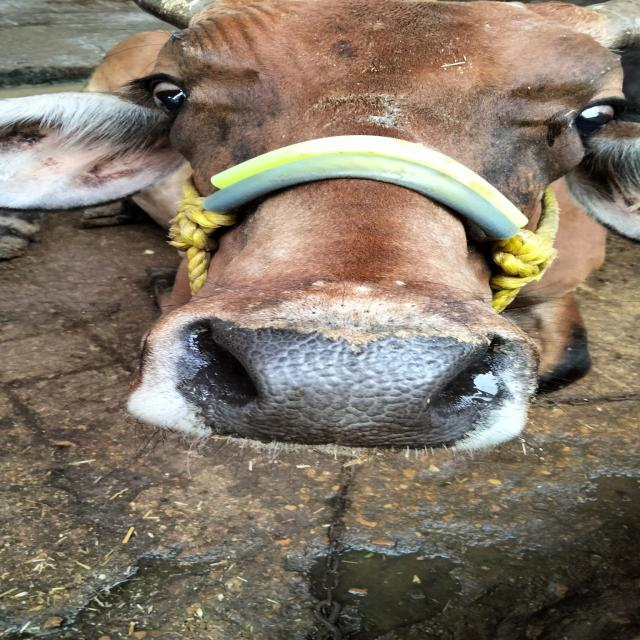muzzles: (156, 313, 540, 454)
